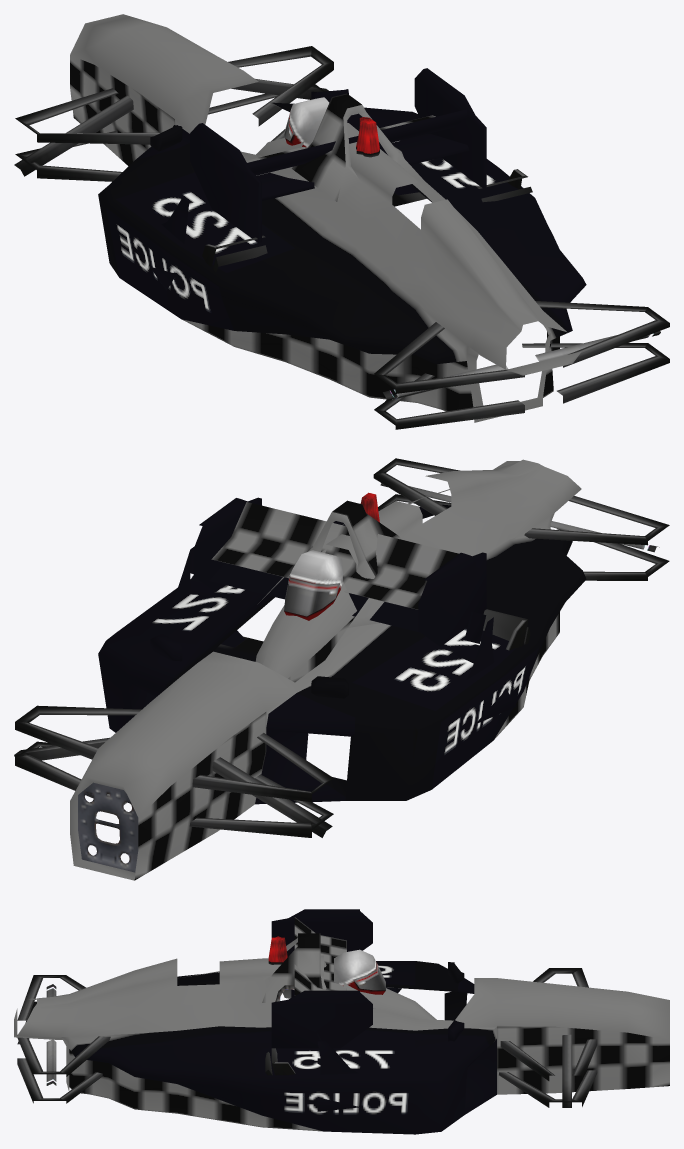
File: car-HSPC_Car27.glb
3 renders of one model, top to bottom at view 1: azimuth 30°, elevation 25°; view 2: azimuth 150°, elevation 25°; view 3: azimuth 270°, elevation 25°, orthographic. The views are drawn at different scales.
Parts seen in each view (by area): view 1: HSPC_Car27; view 2: HSPC_Car27; view 3: HSPC_Car27.
Part boxes in pixels (x1,y1,x2,y2): HSPC_Car27: [14, 14, 669, 429]; HSPC_Car27: [14, 458, 669, 880]; HSPC_Car27: [14, 909, 669, 1134].
Bounding box in the file's own units: 1.68 × 0.8972 × 3.68.
Materials: 5 (5 with a texture image).
